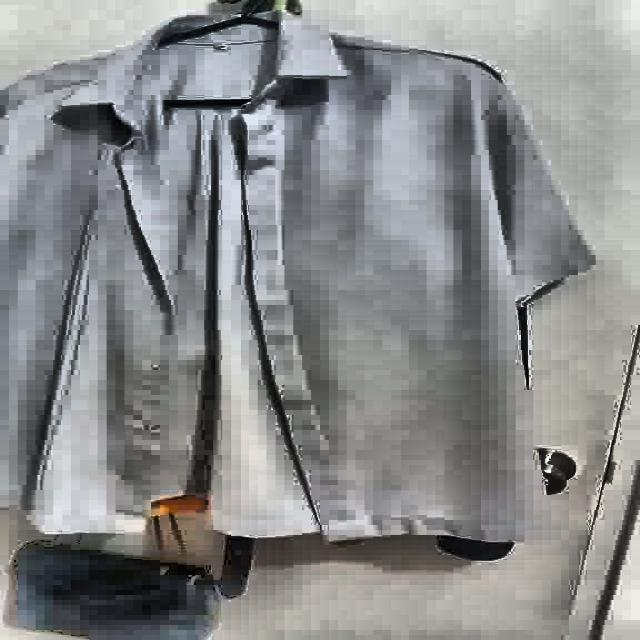clothes: (0, 0, 591, 549)
